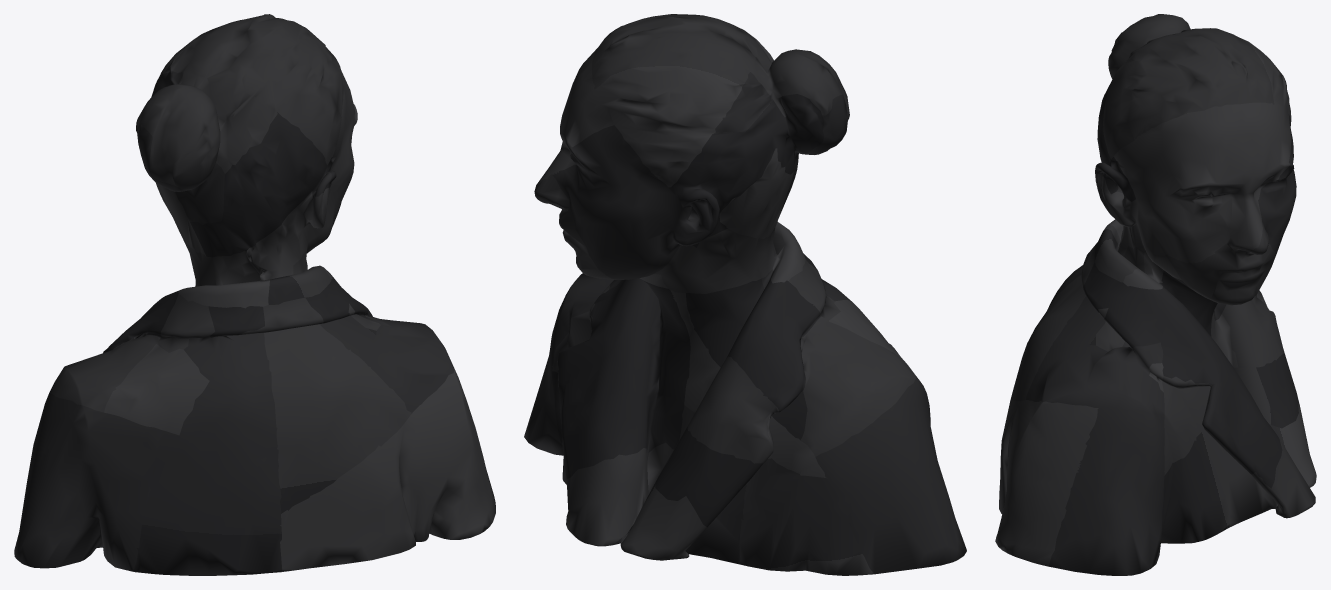
The model's file is 04-portrait-wire.glb.
The picture shows the model from 3 angles, left to right: view 1: azimuth 30°, elevation 25°; view 2: azimuth 150°, elevation 25°; view 3: azimuth 270°, elevation 25°; orthographic projection. The views are drawn at different scales.
Parts seen in each view (by area): view 1: tripo_node_962ba5a3-3a17-4061-b0de-733138beeed0; view 2: tripo_node_962ba5a3-3a17-4061-b0de-733138beeed0; view 3: tripo_node_962ba5a3-3a17-4061-b0de-733138beeed0.
Boxes of the visible parts, x1,y1,x2,y2 form: tripo_node_962ba5a3-3a17-4061-b0de-733138beeed0: [14, 14, 495, 575]; tripo_node_962ba5a3-3a17-4061-b0de-733138beeed0: [524, 14, 966, 575]; tripo_node_962ba5a3-3a17-4061-b0de-733138beeed0: [995, 14, 1316, 575].
Bounding box in the file's own units: 0.9883 × 0.9999 × 0.6466.
1 material, 1 textured.
